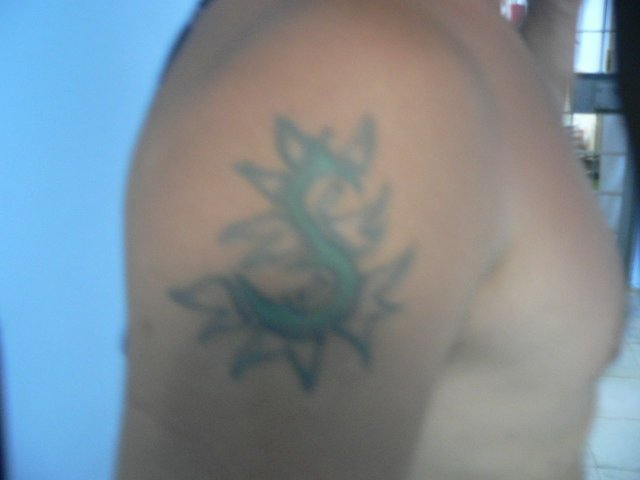tatu6_drakon: (160, 95, 456, 403)
